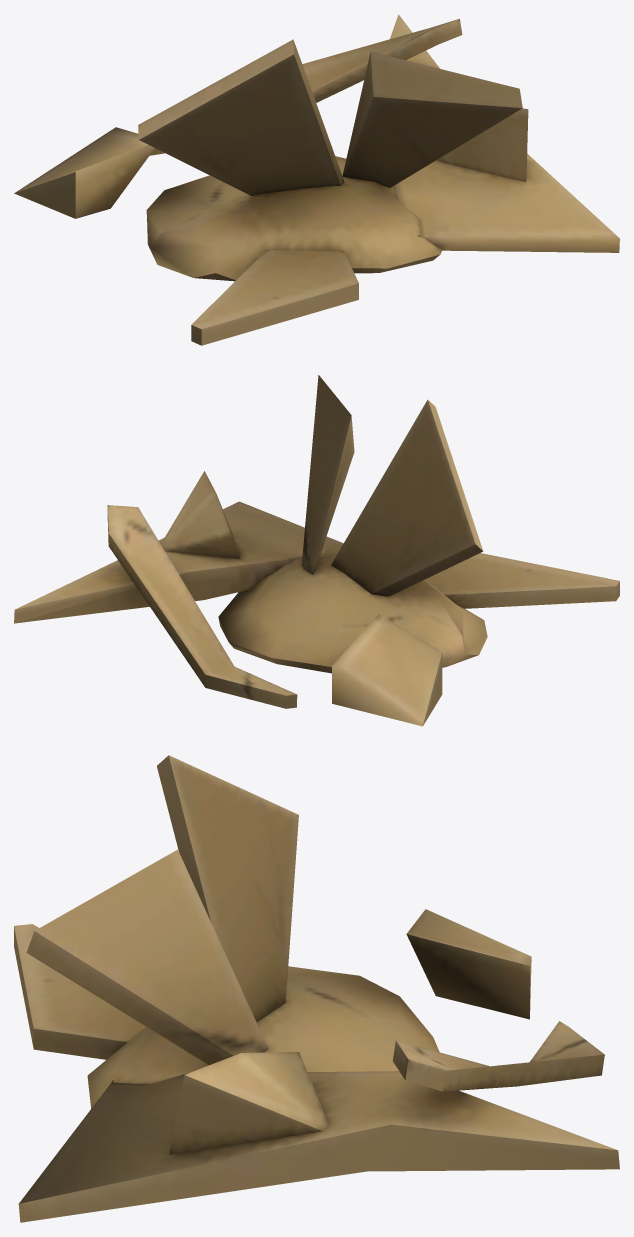
The model's file is ripped.obj.
3 renders of one model, top to bottom at view 1: azimuth 30°, elevation 25°; view 2: azimuth 150°, elevation 25°; view 3: azimuth 270°, elevation 25°, orthographic. The views are drawn at different scales.
Parts seen in each view (by area): view 1: s4studio_mesh_1; view 2: s4studio_mesh_1; view 3: s4studio_mesh_1.
Boxes of the visible parts, x1,y1,x2,y2 form: s4studio_mesh_1: (14, 14, 619, 345); s4studio_mesh_1: (14, 375, 619, 726); s4studio_mesh_1: (14, 755, 619, 1222).
Bounding box in the file's own units: 0.3315 × 0.1713 × 0.3123.
